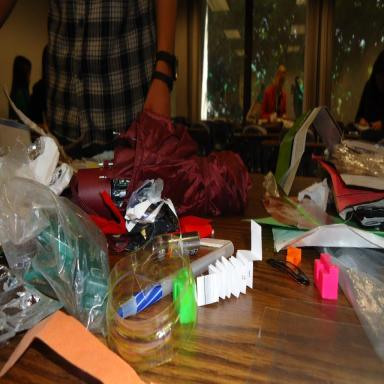plasticbag: (8, 154, 112, 333)
